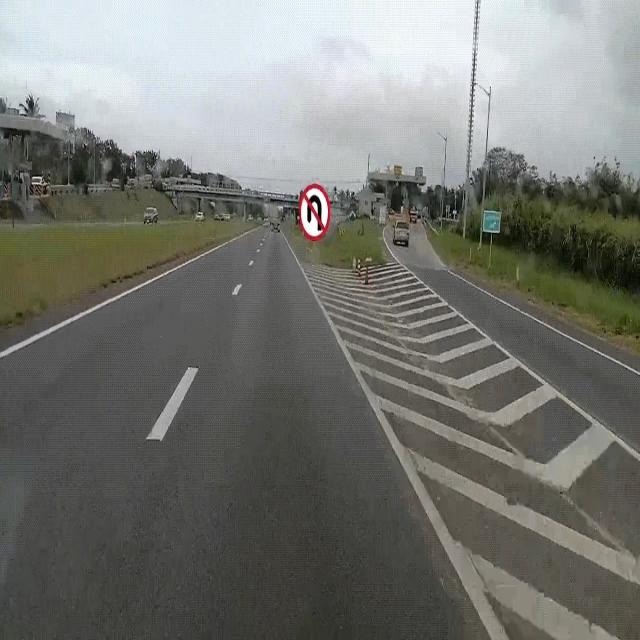Demi-Tour-Interdit: (296, 177, 331, 243)
